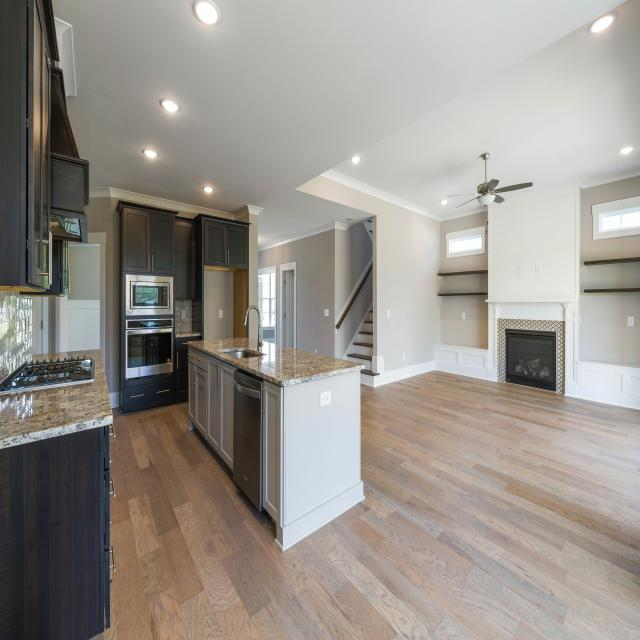floor: (89, 369, 640, 640), (283, 370, 364, 554)
wall: (294, 175, 441, 373), (434, 301, 640, 410), (110, 197, 199, 394), (581, 175, 640, 365), (485, 185, 579, 302), (258, 228, 335, 358), (85, 197, 111, 394), (335, 257, 373, 360), (335, 222, 373, 323), (440, 211, 488, 274), (440, 295, 488, 348), (204, 270, 233, 340), (68, 244, 100, 301), (445, 226, 486, 258), (440, 273, 488, 293), (577, 185, 582, 362), (249, 213, 258, 308), (249, 308, 258, 341), (540, 270, 579, 274), (236, 213, 249, 223)
